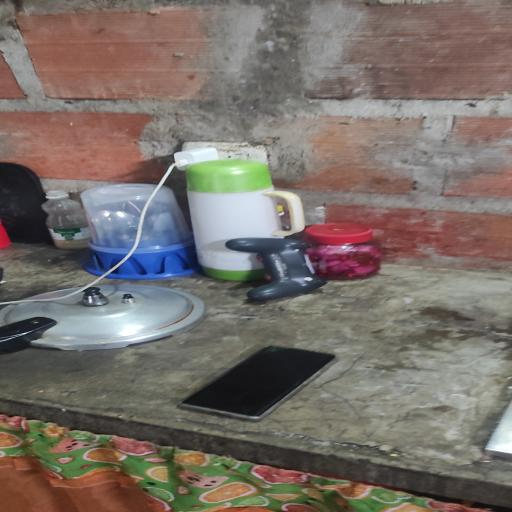ControlPlay4: (225, 238, 327, 301)
